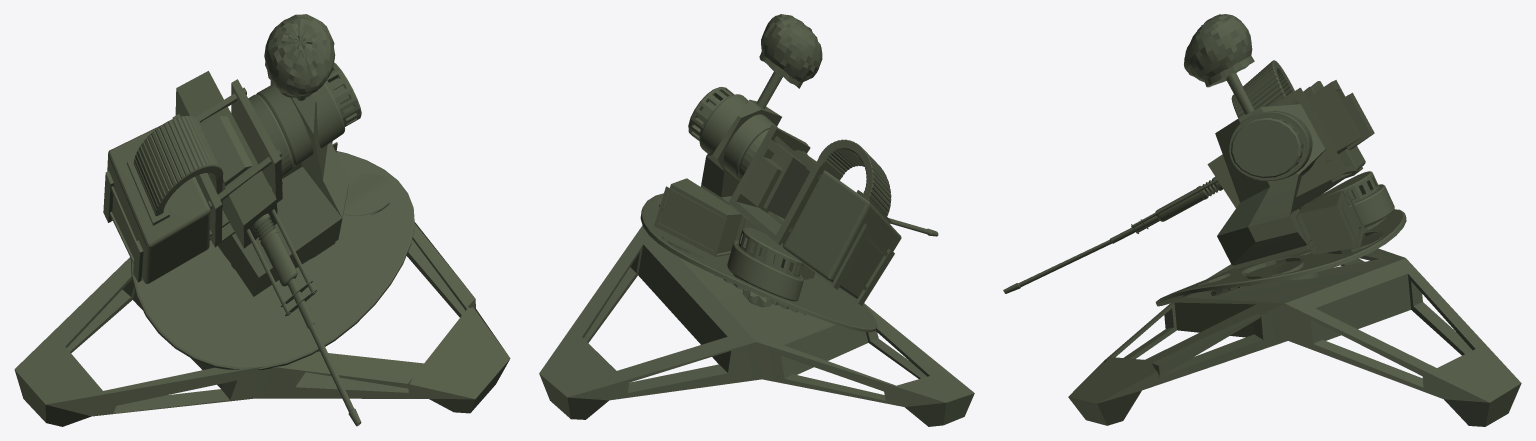
Rendered from ICETurretDestroyed.fbx.
3 views of the same model, side by side, from view 1: azimuth 30°, elevation 25°; view 2: azimuth 150°, elevation 25°; view 3: azimuth 270°, elevation 25° (orthographic). The views are drawn at different scales.
Visible parts, largest first — view 1: Base_1; view 2: Base_1; view 3: Base_1.
Part boxes in pixels (bbox=[...]): Base_1: bbox=[14, 14, 510, 426]; Base_1: bbox=[539, 14, 974, 426]; Base_1: bbox=[1003, 14, 1521, 426].
Bounding box in the file's own units: 238 × 226 × 292.
